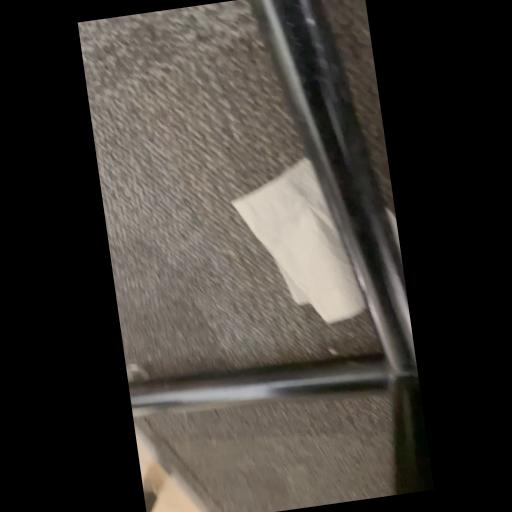napkin: (225, 154, 365, 338)
